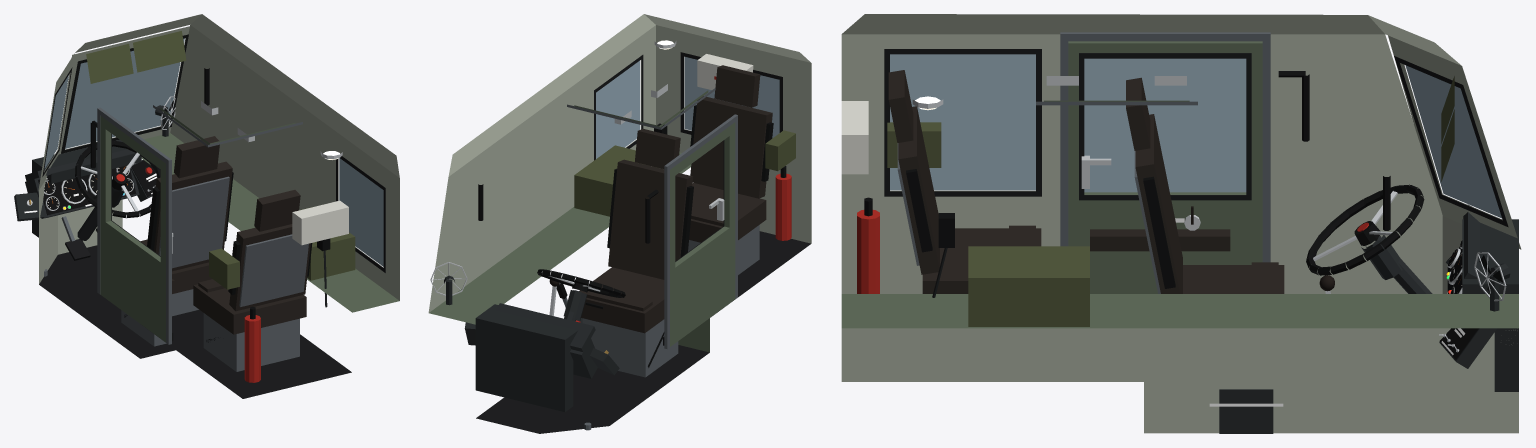
Rendered from tel_cab.glb.
3 renders of one model, left to right at view 1: azimuth 30°, elevation 25°; view 2: azimuth 150°, elevation 25°; view 3: azimuth 270°, elevation 25°, orthographic. The views are drawn at different scales.
Parts seen in each view (by area): view 1: static, exit_door; view 2: static, exit_door; view 3: static, exit_door.
Part boxes in pixels (<box>): static: <box>14,14,399,398</box>; exit_door: <box>100,116,174,342</box>; static: <box>428,14,811,433</box>; exit_door: <box>663,122,735,346</box>; static: <box>841,14,1521,433</box>; exit_door: <box>1068,41,1262,293</box>.
Size of the model in its own units: 1.11 by 1.4 by 2.52.
